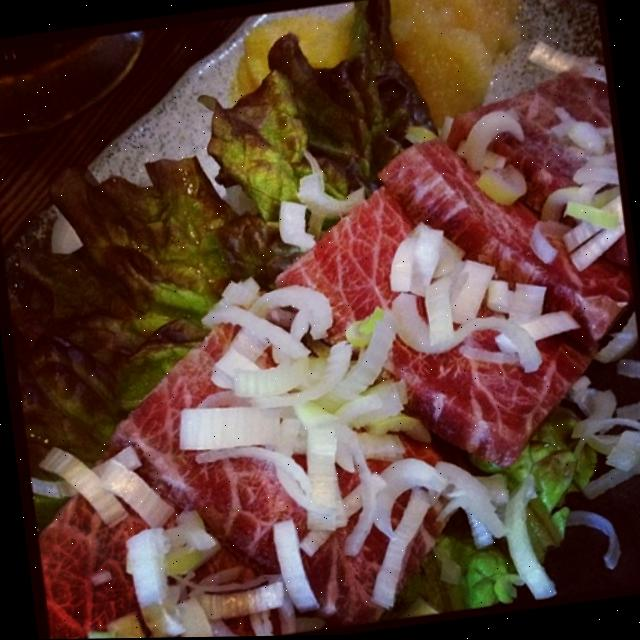刺身生食: (0, 76, 640, 640)
